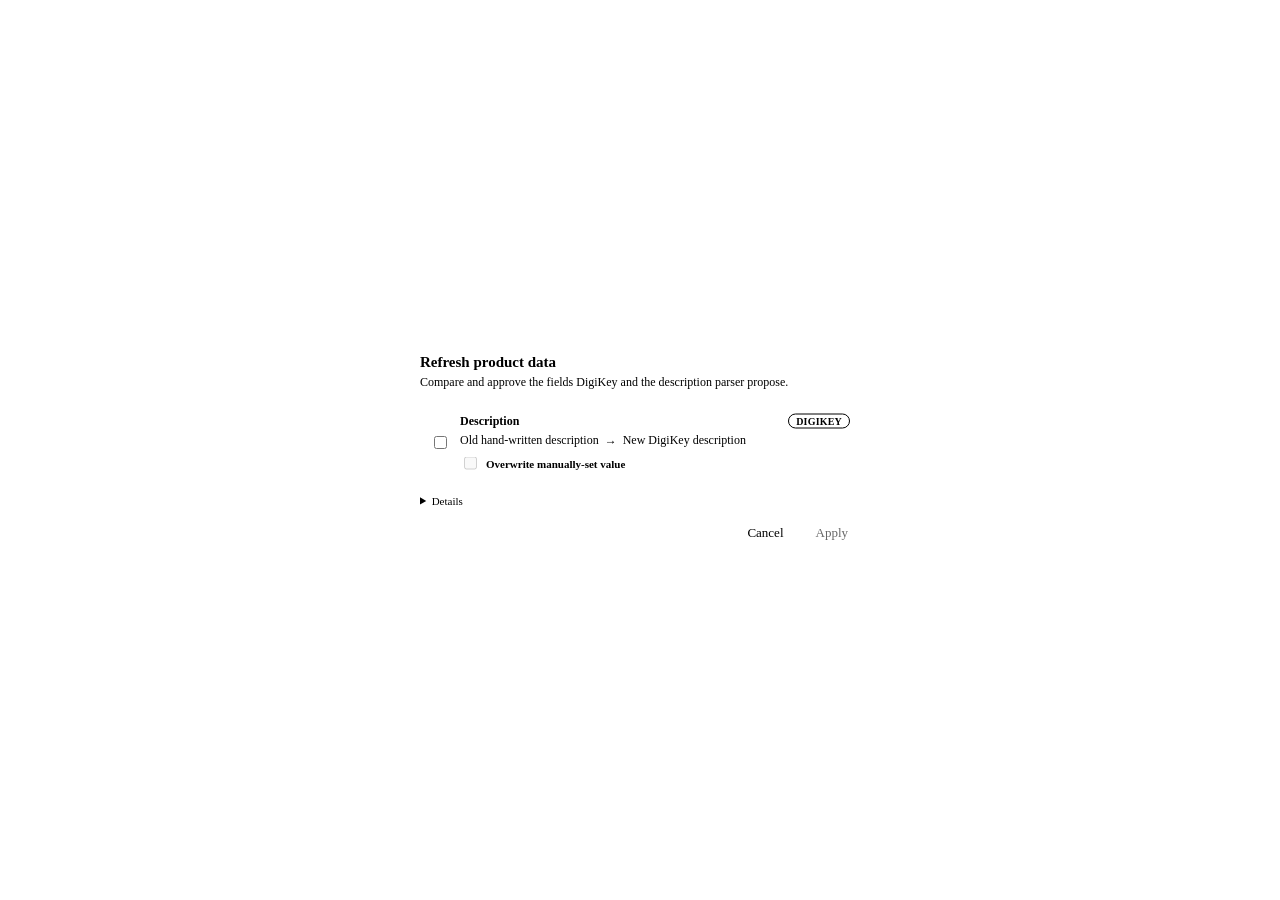
Test: EnrichmentDiffDialog › a protected row (manual current) checked but NOT confirmed is excluded from apply, and Apply is disabled when it is the only row
expect the text "Description" is shown: met, box x1=460 y1=414 x2=519 y2=428
expect the text "Overwrite manually-set value" is shown: met, box x1=464 y1=456 x2=625 y2=470
Click the checkbox named "include".
click(440, 442)  # box x1=434 y1=416 x2=447 y2=470
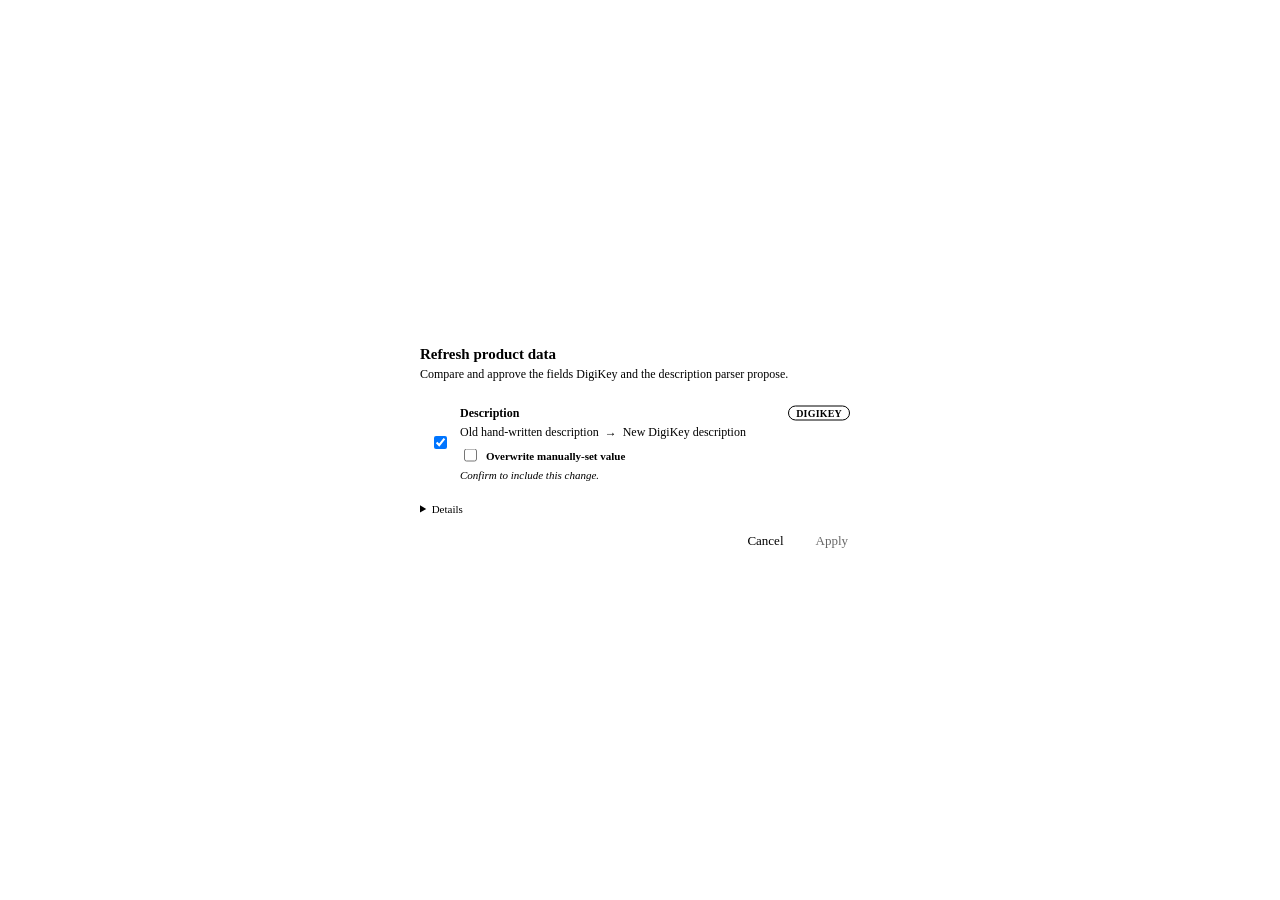
expect the button "Apply" is disabled: met, box x1=804 y1=526 x2=860 y2=554
expect the text "Confirm to include this change." is shown: met, box x1=460 y1=468 x2=599 y2=480
